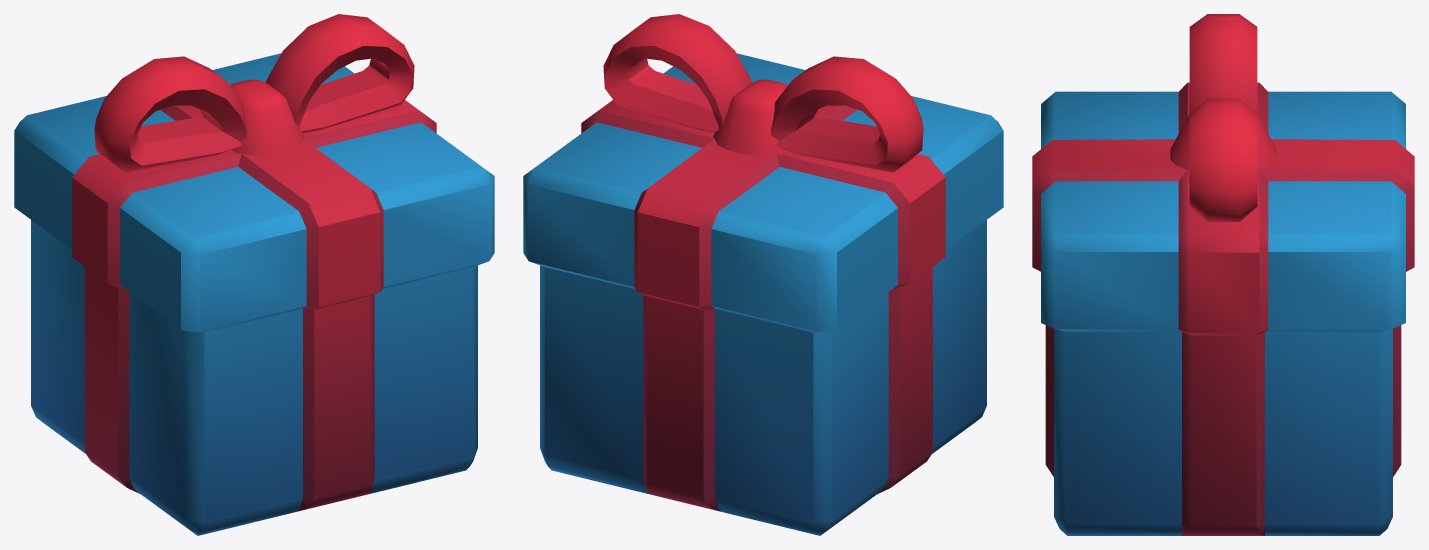
The model's file is present_A_blue.obj.
3 renders of one model, left to right at view 1: azimuth 30°, elevation 25°; view 2: azimuth 150°, elevation 25°; view 3: azimuth 270°, elevation 25°, orthographic.
Parts seen in each view (by area): view 1: present_A_blue; view 2: present_A_blue; view 3: present_A_blue.
Boxes of the visible parts, <box> form: present_A_blue: <box>14,14,494,535</box>; present_A_blue: <box>523,14,1003,535</box>; present_A_blue: <box>1032,14,1414,535</box>.
Size of the model in its own units: 0.5637 by 0.6617 by 0.5638.
1 material, 1 textured.
